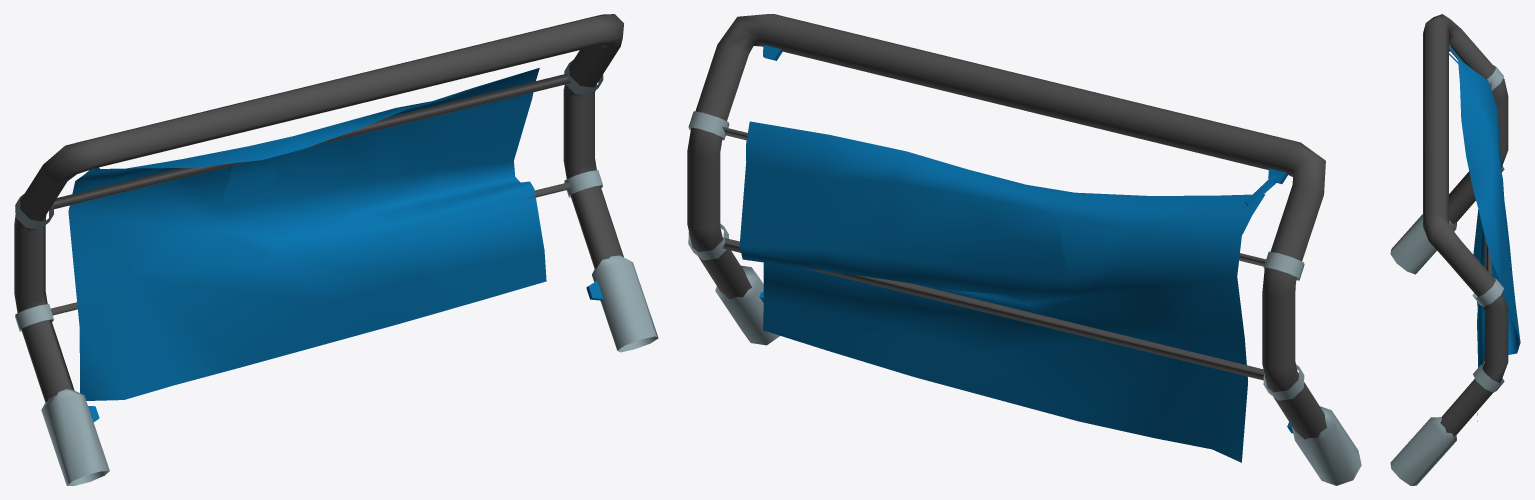
The model's file is env_building_warehouse01fence01B_lod1.fbx.
3 renders of one model, left to right at view 1: azimuth 30°, elevation 25°; view 2: azimuth 150°, elevation 25°; view 3: azimuth 270°, elevation 25°, orthographic. The views are drawn at different scales.
Visible parts, largest first — view 1: env_building_warehouse01fence01B_lod1; view 2: env_building_warehouse01fence01B_lod1; view 3: env_building_warehouse01fence01B_lod1.
Boxes of the visible parts, box(x1,y1,x2,y2) form: env_building_warehouse01fence01B_lod1: box(14, 14, 658, 485); env_building_warehouse01fence01B_lod1: box(687, 14, 1361, 485); env_building_warehouse01fence01B_lod1: box(1390, 14, 1520, 485).
Bounding box in the file's own units: 61.65 × 33.14 × 14.97.
